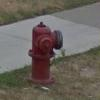Hydrant: (21, 13, 67, 86)
